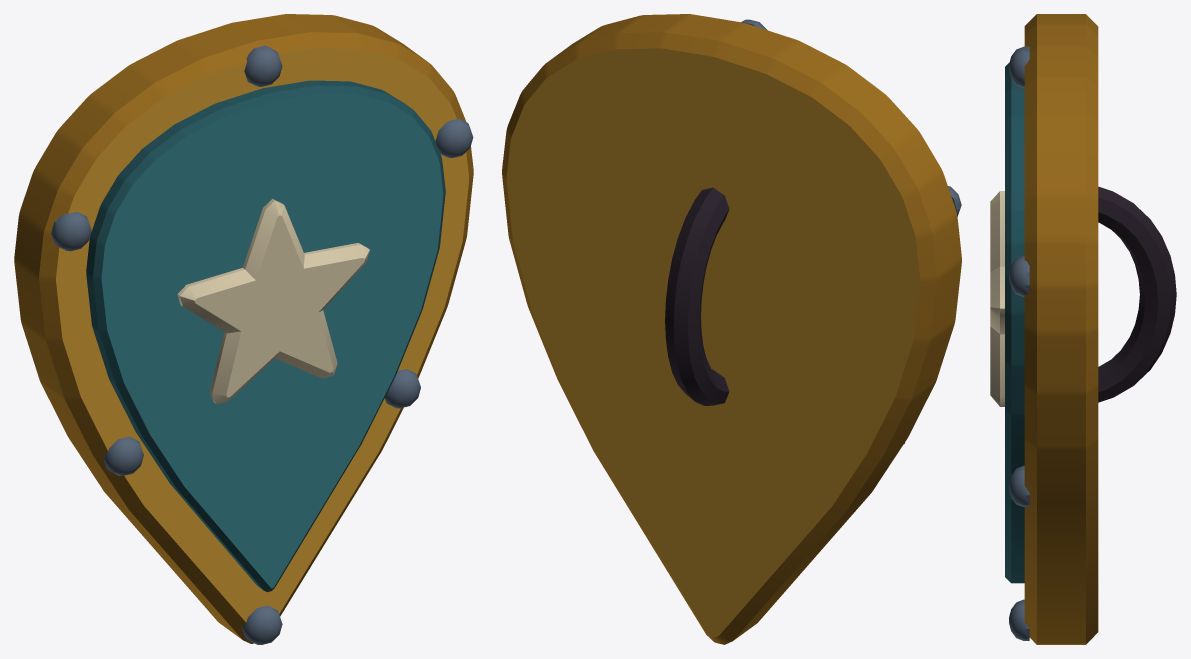
Rendered from KiteShield_03.glb.
3 views of the same model, side by side, from view 1: azimuth 30°, elevation 25°; view 2: azimuth 150°, elevation 25°; view 3: azimuth 270°, elevation 25° (orthographic).
Visible parts, largest first — view 1: KiteShield_03; view 2: KiteShield_03; view 3: KiteShield_03.
Part boxes in pixels (box(x1,y1,x2,y2)): KiteShield_03: box(14, 14, 473, 644); KiteShield_03: box(502, 14, 961, 644); KiteShield_03: box(990, 14, 1176, 644).
Size of the model in its own units: 2.03 by 2.68 by 0.76.
